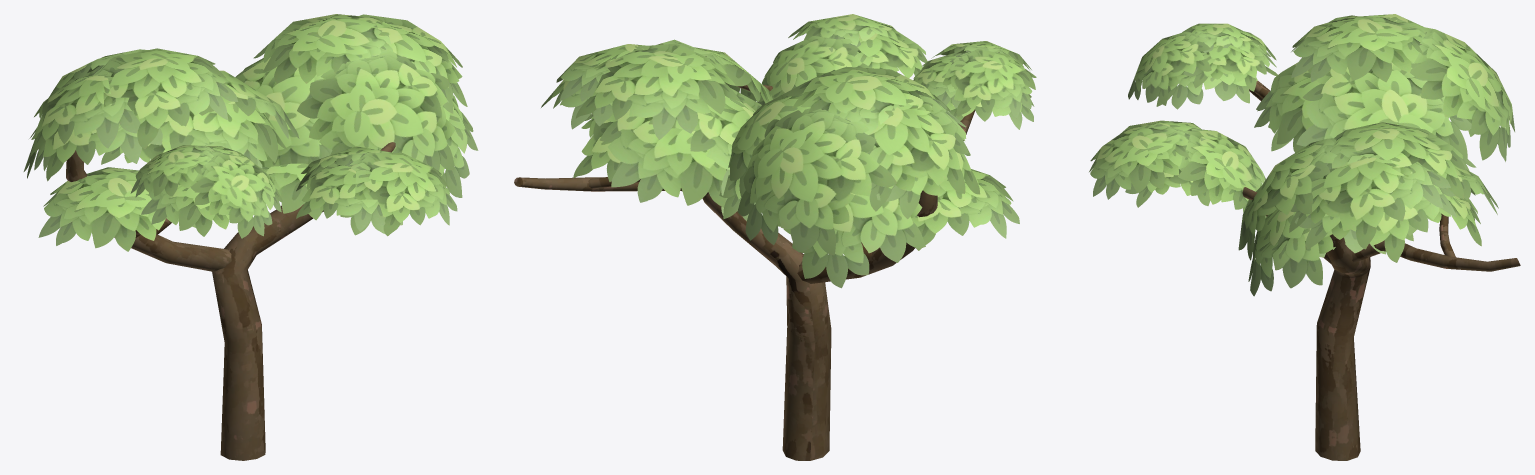
File: tree_4.glb
3 views of the same model, side by side, from view 1: azimuth 30°, elevation 25°; view 2: azimuth 150°, elevation 25°; view 3: azimuth 270°, elevation 25° (orthographic). The views are drawn at different scales.
Visible parts, largest first — view 1: Tree_4; view 2: Tree_4; view 3: Tree_4.
Part boxes in pixels (left/top/right/bottom): Tree_4: left=23, top=14, right=478, bottom=460; Tree_4: left=514, top=14, right=1036, bottom=460; Tree_4: left=1089, top=14, right=1520, bottom=460.
Size of the model in its own units: 6.27 by 5.33 by 5.46.
2 materials, 2 textured.
